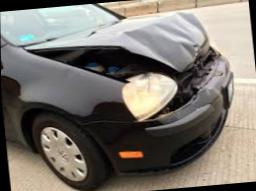Bonnet: (23, 10, 223, 89)
Bumper: (137, 54, 233, 168)
Light: (120, 70, 182, 119)
